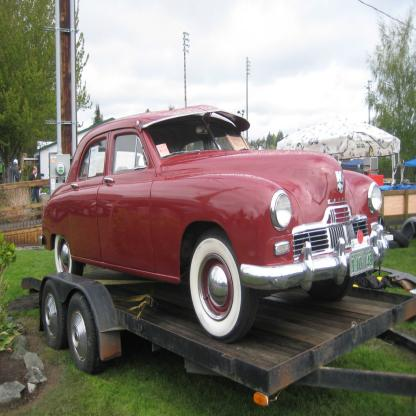Car: (38, 106, 391, 345)
